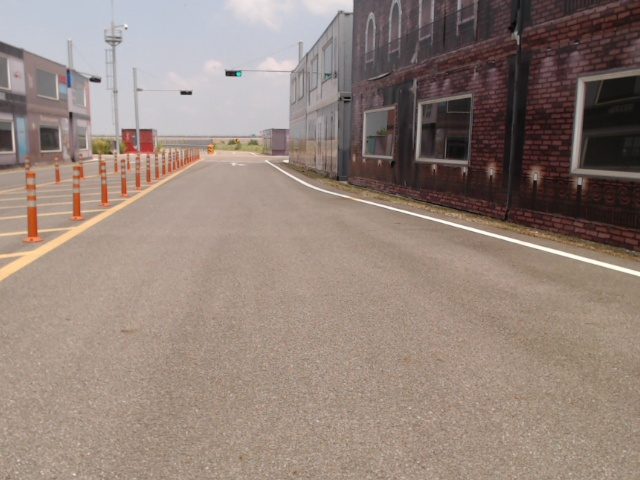green_3: (225, 70, 242, 77)
